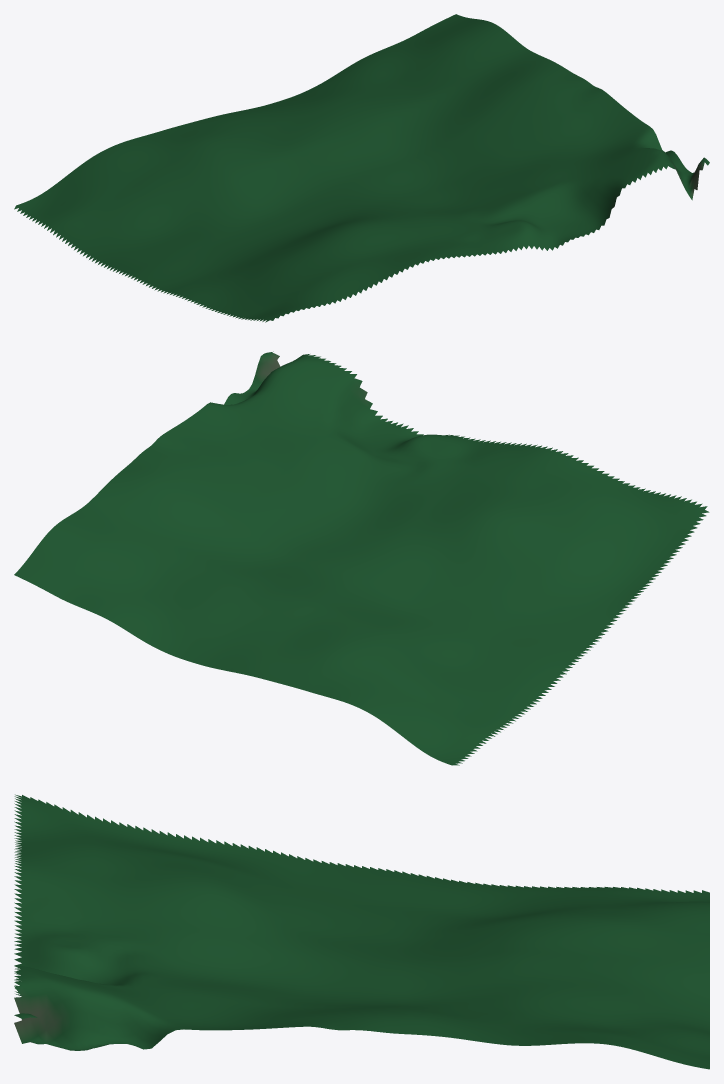
Rendered from payo_land_x1_ym2.glb.
The picture shows the model from 3 angles, top to bottom: view 1: azimuth 30°, elevation 25°; view 2: azimuth 150°, elevation 25°; view 3: azimuth 270°, elevation 25°; orthographic projection. The views are drawn at different scales.
Parts seen in each view (by area): view 1: payo_land_x1_ym2; view 2: payo_land_x1_ym2; view 3: payo_land_x1_ym2.
Part boxes in pixels (x1=…): payo_land_x1_ym2: x1=14, y1=14, x2=709, y2=322; payo_land_x1_ym2: x1=14, y1=351, x2=709, y2=765; payo_land_x1_ym2: x1=14, y1=794, x2=709, y2=1069.
Bounding box in the file's own units: 258 × 72.44 × 258.
